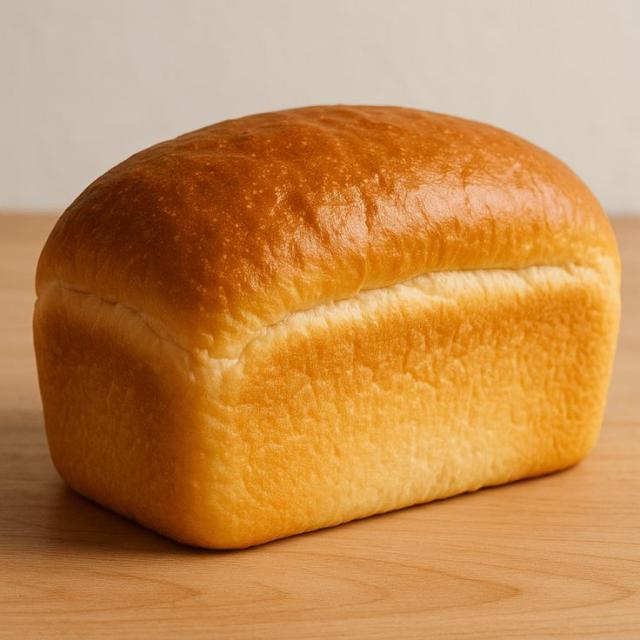bread: (34, 107, 619, 547)
